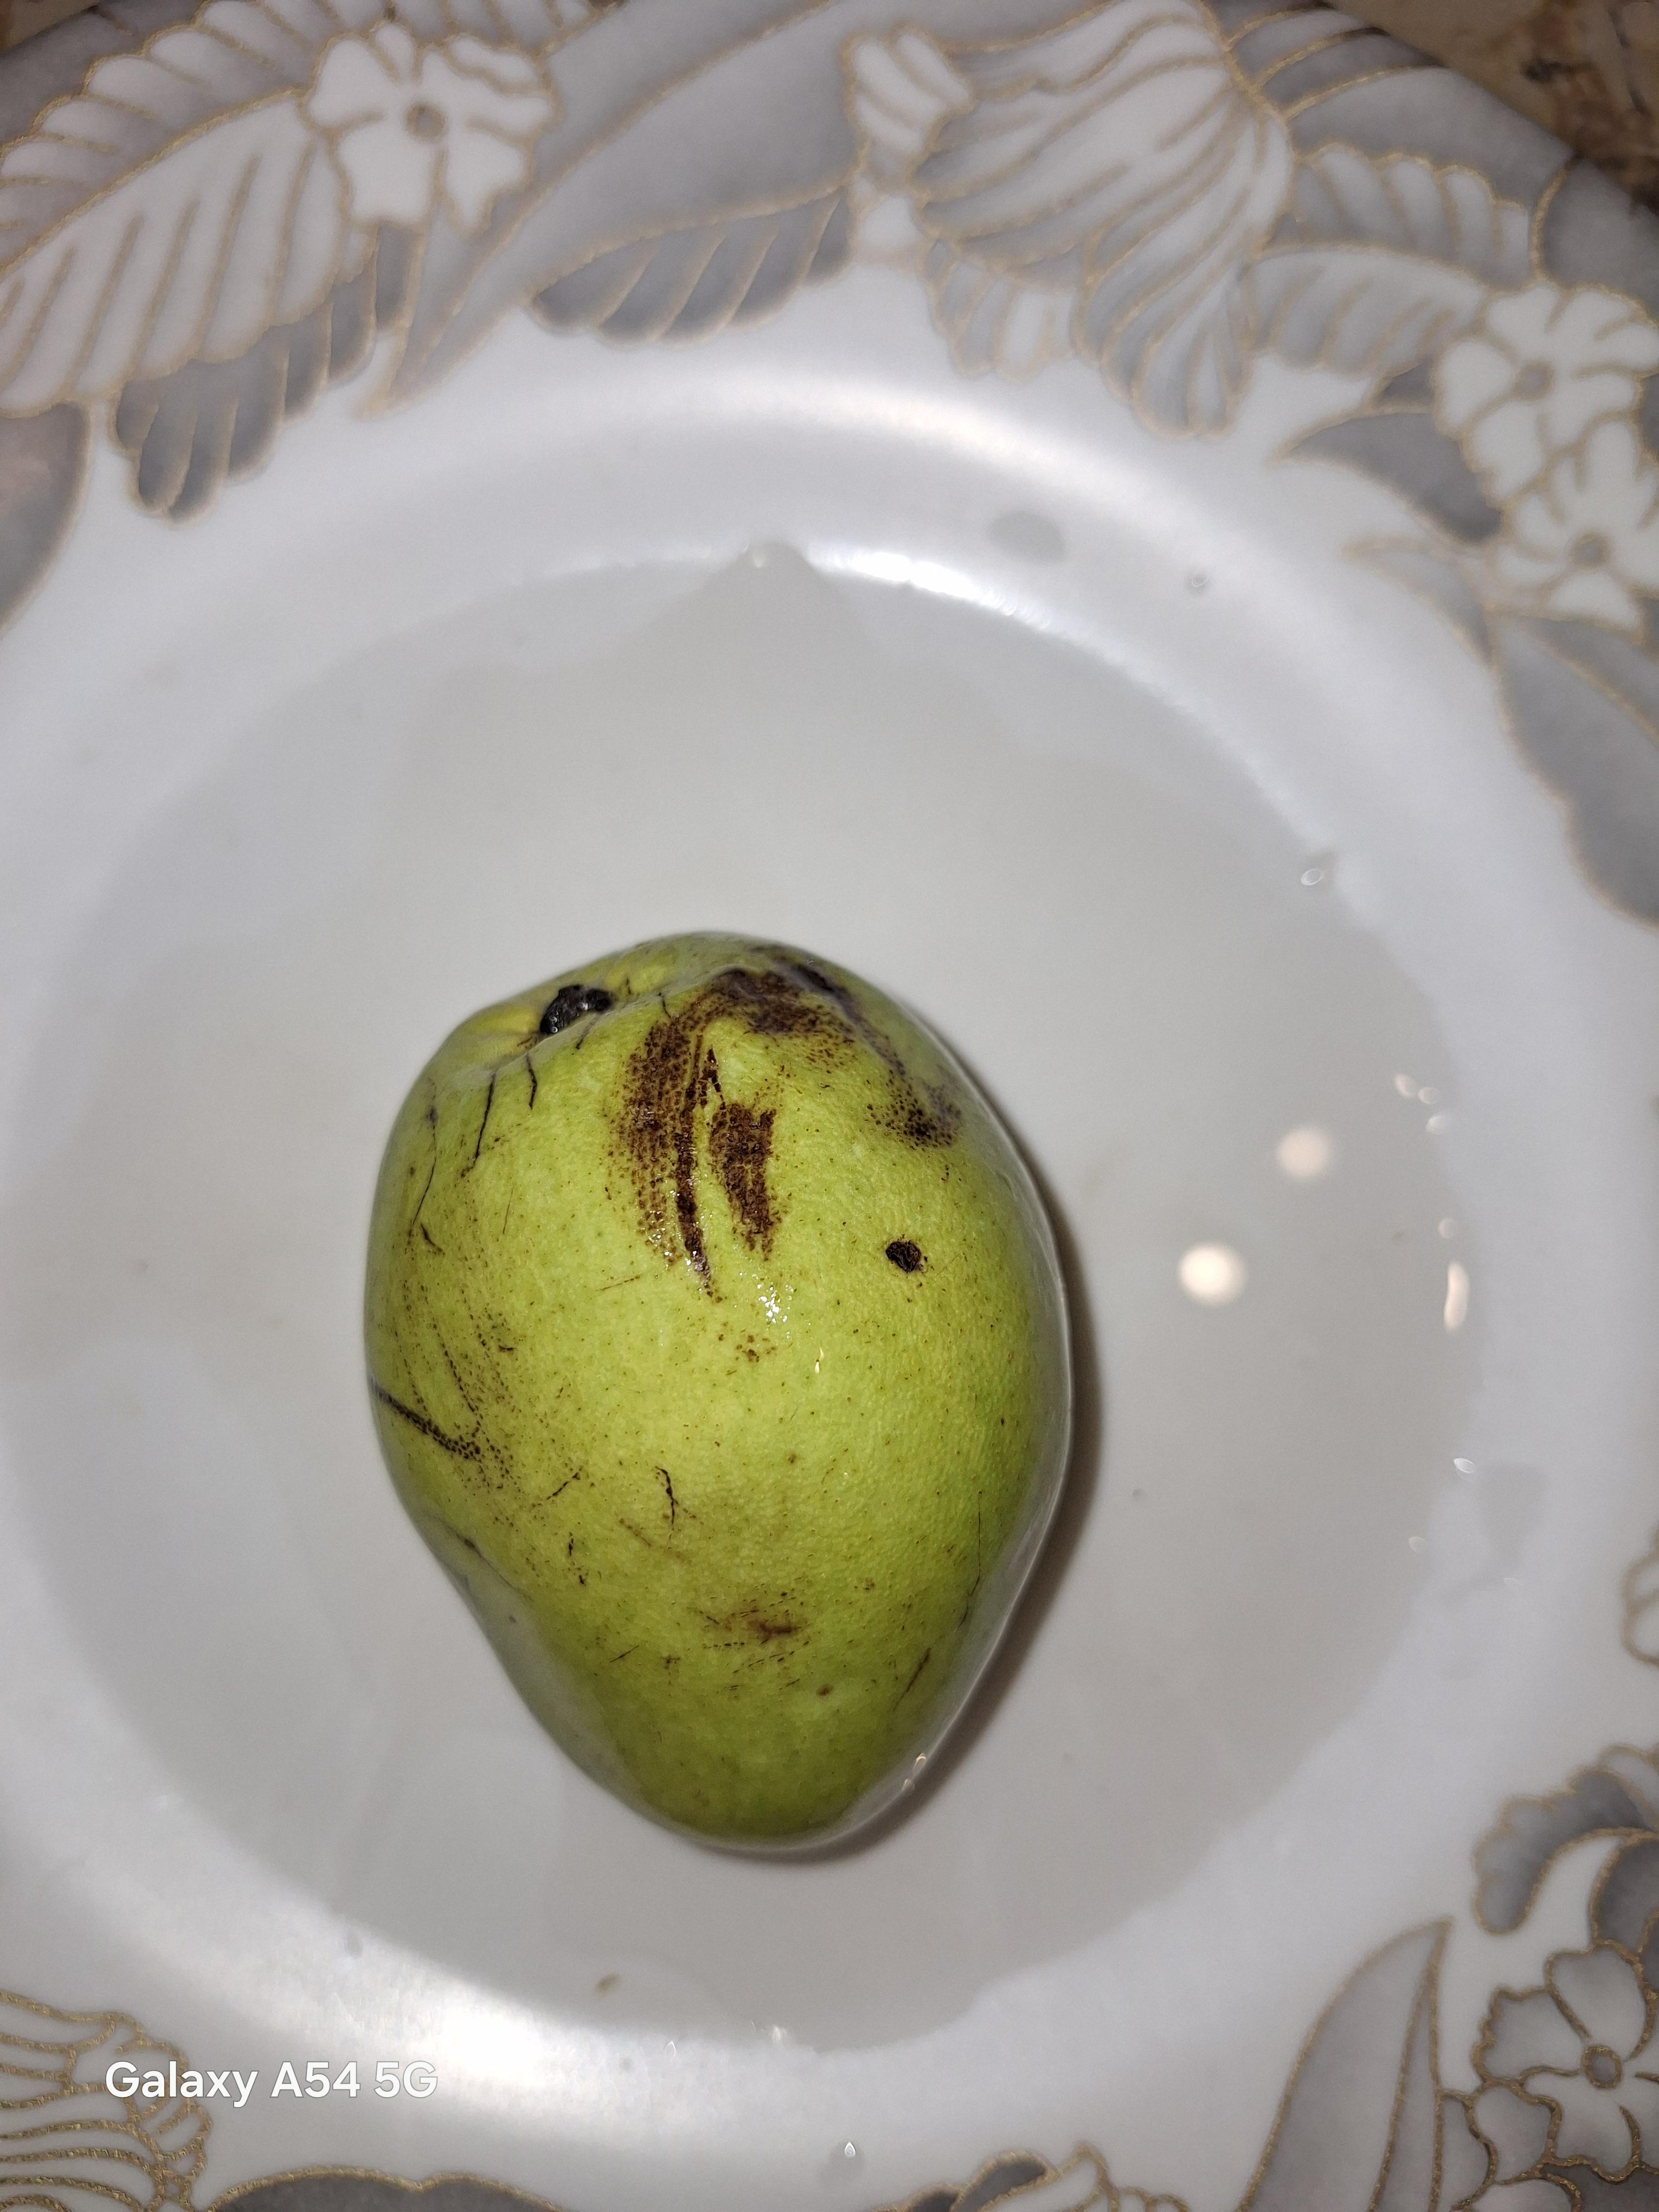non-mango: (369, 928, 1108, 1885)
